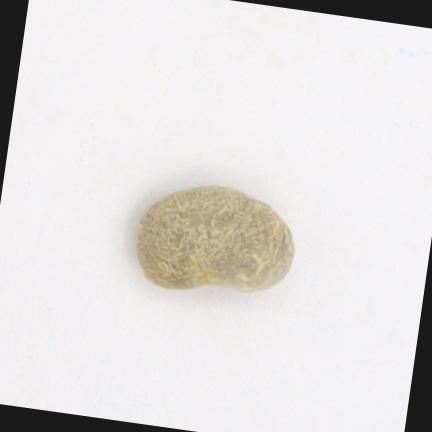immature: (137, 185, 294, 291)
